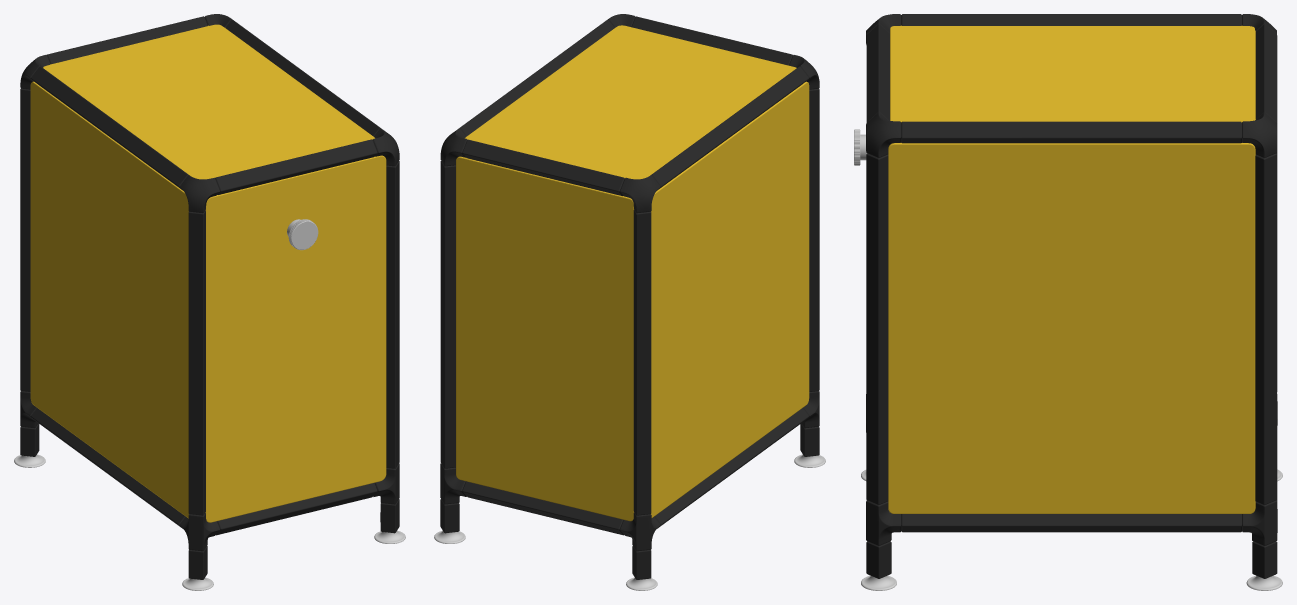
3 renders of one model, left to right at view 1: azimuth 30°, elevation 25°; view 2: azimuth 150°, elevation 25°; view 3: azimuth 270°, elevation 25°, orthographic. The views are drawn at different scales.
Parts seen in each view (by area): view 1: 229x374x420; view 2: 229x374x420; view 3: 229x374x420.
Part boxes in pixels (bbox=[...]): 229x374x420: bbox=[14, 14, 405, 590]; 229x374x420: bbox=[434, 14, 825, 590]; 229x374x420: bbox=[854, 14, 1282, 590].
Bounding box in the file's own units: 0.3189 × 0.5593 × 0.4707.
